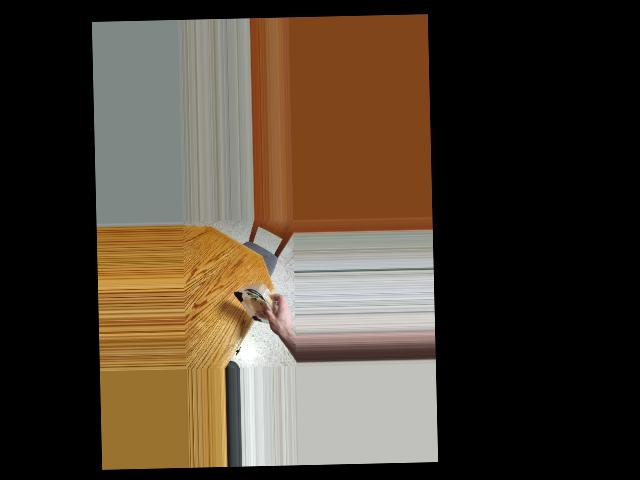cheese: (235, 278, 276, 336)
